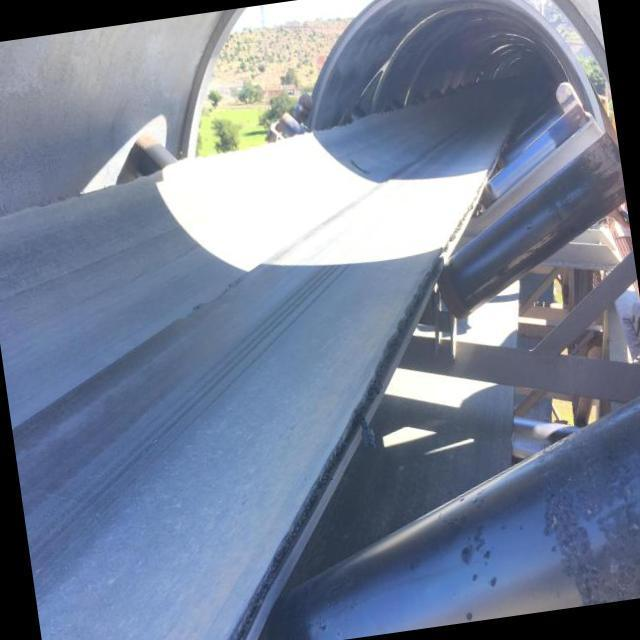Tear: (13, 112, 476, 449)
